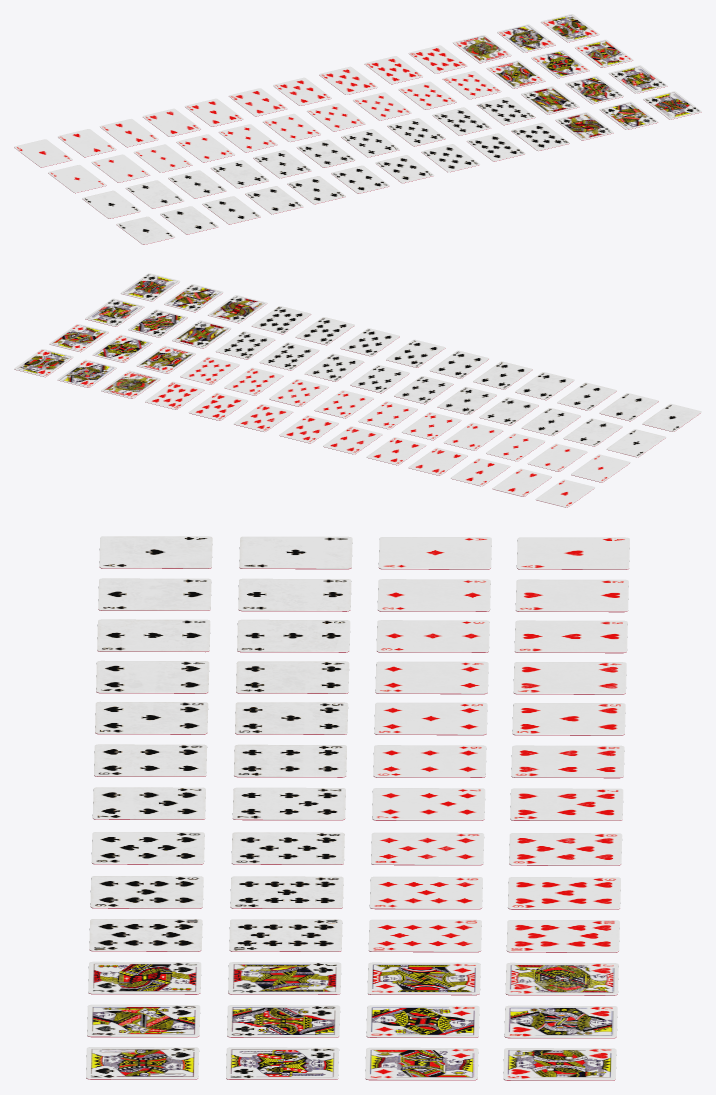
The model's file is Cards.fbx.
The picture shows the model from 3 angles, top to bottom: view 1: azimuth 30°, elevation 25°; view 2: azimuth 150°, elevation 25°; view 3: azimuth 270°, elevation 25°; orthographic projection. The views are drawn at different scales.
Visible parts, largest first — view 1: diamonds03, diamonds13, clubs13, hearts09, clubs04, spades08, spades12, hearts10, diamonds07, diamonds10, clubs02, clubs07 (+40 smaller); view 2: diamonds02, diamonds06, clubs09, clubs10, hearts05, hearts07, diamonds01, diamonds04, diamonds05, diamonds07, spades04, spades08 (+40 smaller); view 3: diamonds10, spades12, clubs07, diamonds08, diamonds09, clubs01, diamonds13, diamonds05, hearts12, diamonds04, clubs02, clubs03 (+40 smaller).
Boxes of the visible parts, <box> form: diamonds03: <box>133,144,192,172</box>; diamonds13: <box>574,39,633,67</box>; clubs13: <box>608,65,667,93</box>; hearts09: <box>364,56,423,84</box>; clubs04: <box>210,160,269,188</box>; spades08: <box>421,144,479,172</box>; spades12: <box>599,101,658,129</box>; hearts10: <box>408,45,467,73</box>; diamonds07: <box>307,103,365,131</box>; diamonds10: <box>442,71,501,99</box>; clubs02: <box>125,180,184,208</box>; clubs07: <box>341,129,399,157</box>; diamonds02: <box>527,443,587,471</box>; diamonds06: <box>358,401,417,429</box>; clubs09: <box>259,342,319,370</box>; clubs10: <box>215,331,275,359</box>; hearts05: <box>366,437,425,465</box>; hearts07: <box>279,415,338,443</box>; diamonds01: <box>571,454,630,482</box>; diamonds04: <box>443,422,503,450</box>; diamonds05: <box>402,412,461,440</box>; diamonds07: <box>314,390,373,418</box>; spades04: <box>515,372,574,400</box>; spades08: <box>340,328,399,356</box>; diamonds10: <box>368,919,481,952</box>; spades12: <box>87,1004,200,1037</box>; clubs07: <box>232,787,345,820</box>; diamonds08: <box>371,832,484,865</box>; diamonds09: <box>369,876,482,909</box>; clubs01: <box>239,536,352,569</box>; diamonds13: <box>365,1047,478,1080</box>; diamonds05: <box>374,702,487,735</box>; hearts12: <box>504,1005,617,1038</box>; diamonds04: <box>375,661,488,694</box>; clubs02: <box>238,578,351,611</box>; clubs03: <box>237,619,350,652</box>.
Size of the model in its own units: 137 by 0.2407 by 58.
Materials: 1 (1 with a texture image).
